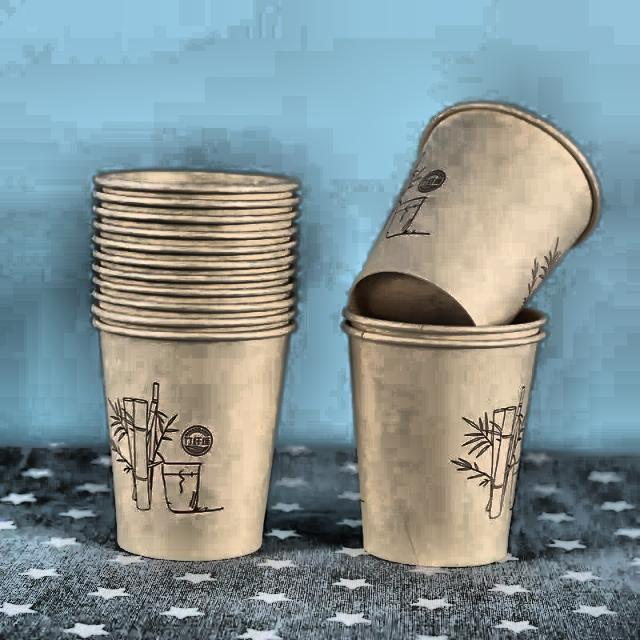Cup: (81, 157, 314, 578), (345, 94, 616, 336), (335, 287, 554, 573)
